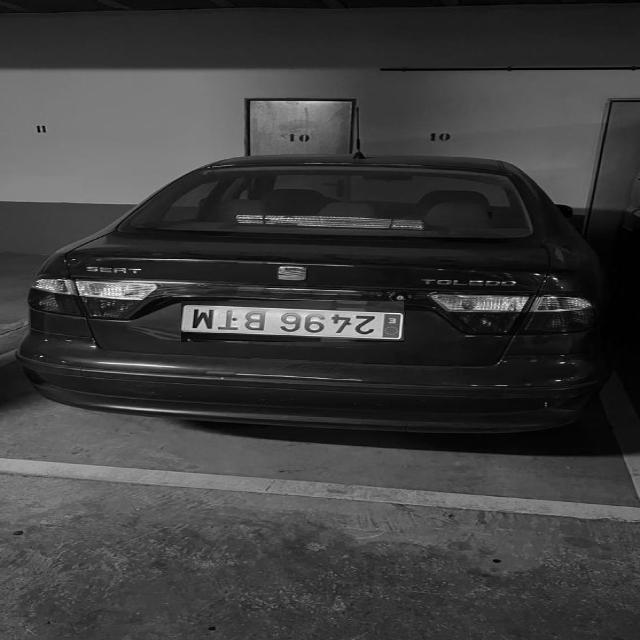License-Plate: (180, 300, 404, 342)
